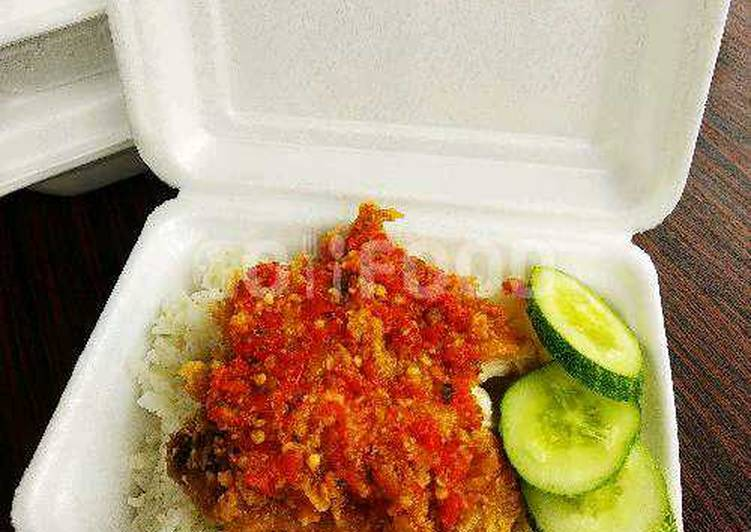ayam_geprek: (170, 209, 528, 532)
